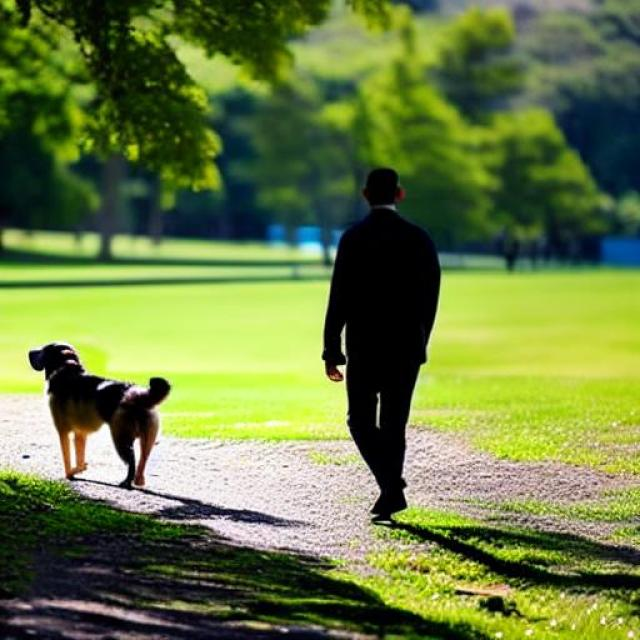Unleashed_Dog: (28, 342, 406, 489)
